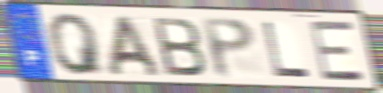A: (106, 13, 164, 79)
B: (149, 15, 209, 78)
E: (307, 19, 369, 83)
L: (260, 19, 312, 80)
P: (198, 16, 257, 80)
Q: (45, 12, 109, 77)
